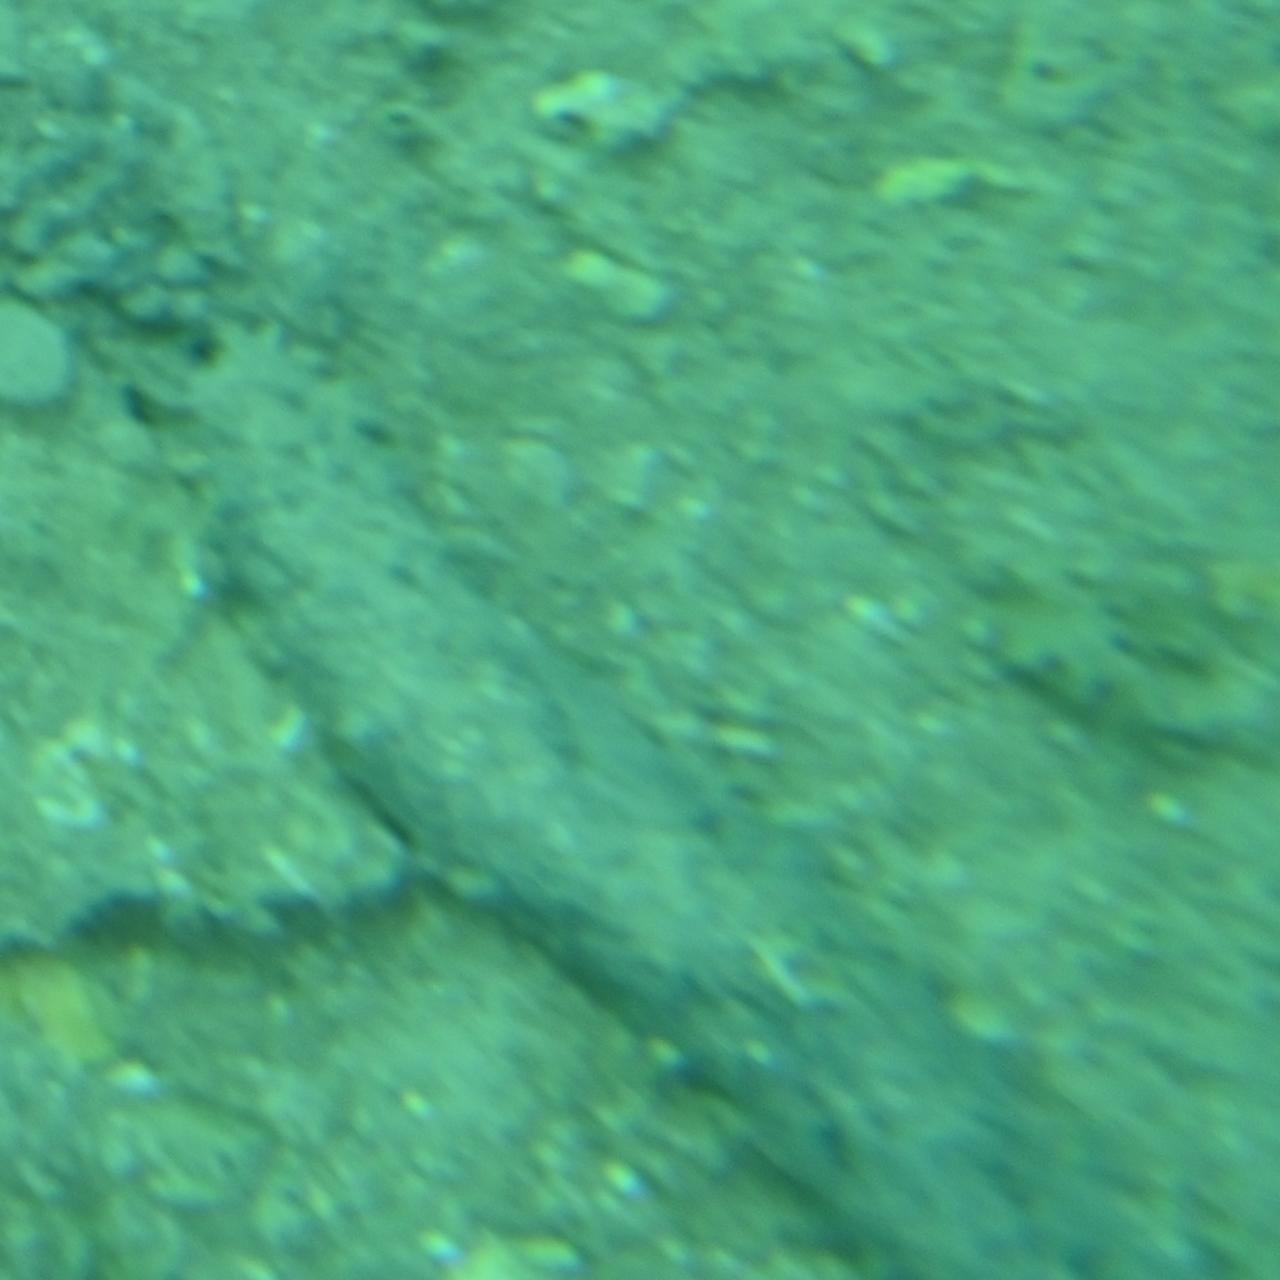Holothuria tubulosa: (183, 331, 1279, 1280)
